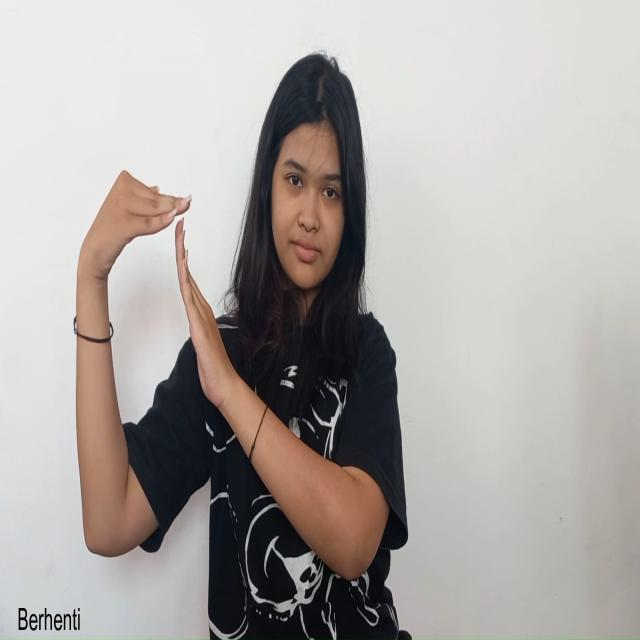Berhenti -BISINDO-: (74, 166, 235, 434)
